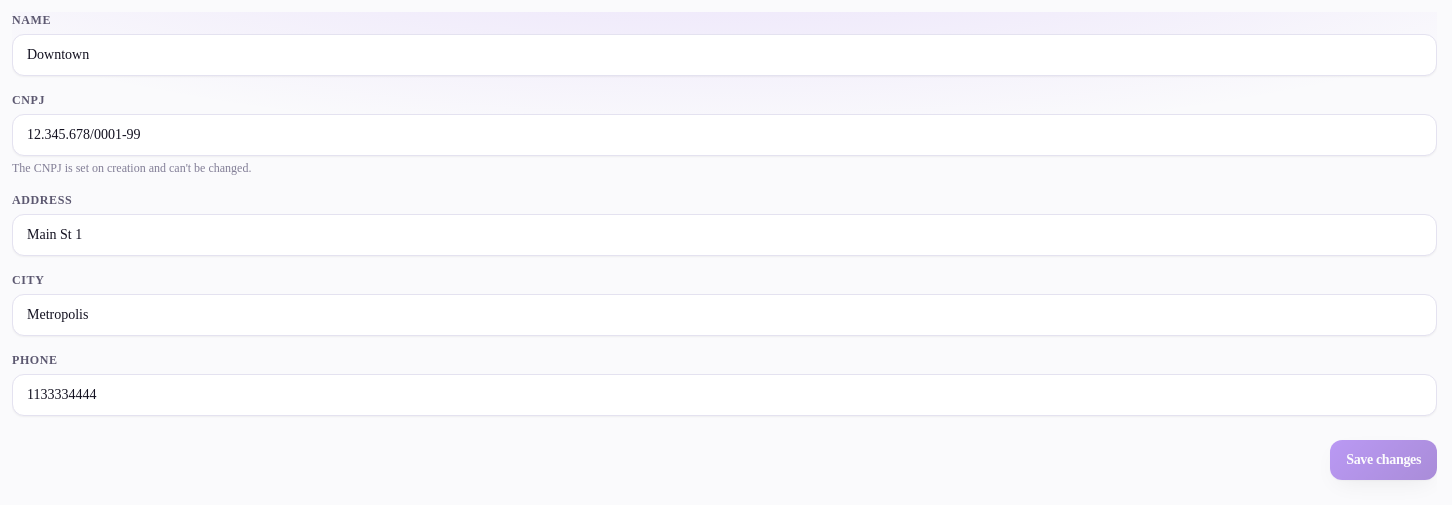
Test: BusinessUnitForm (edit) › keeps submit disabled until a field changes
Expected: the button "Save changes" is disabled, [1330,440,1437,480]
Type " HQ" into the field labelled "Name" at x=724, y=55, box [12,34,1437,76]
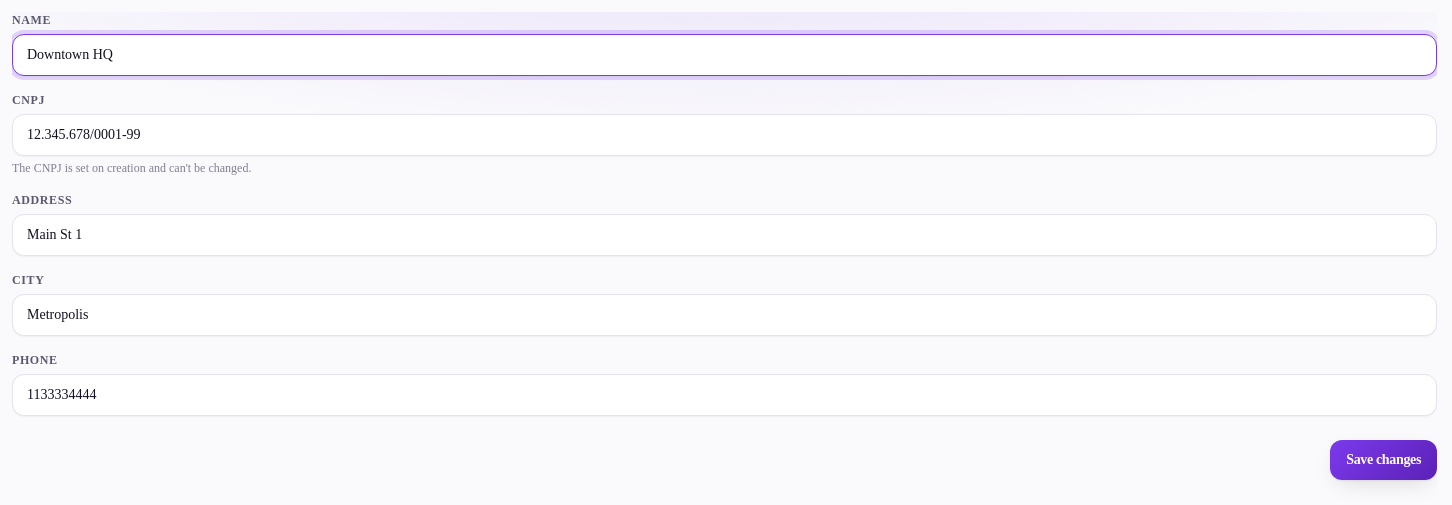
Expected: the button "Save changes" is enabled, [1330,440,1437,480]
